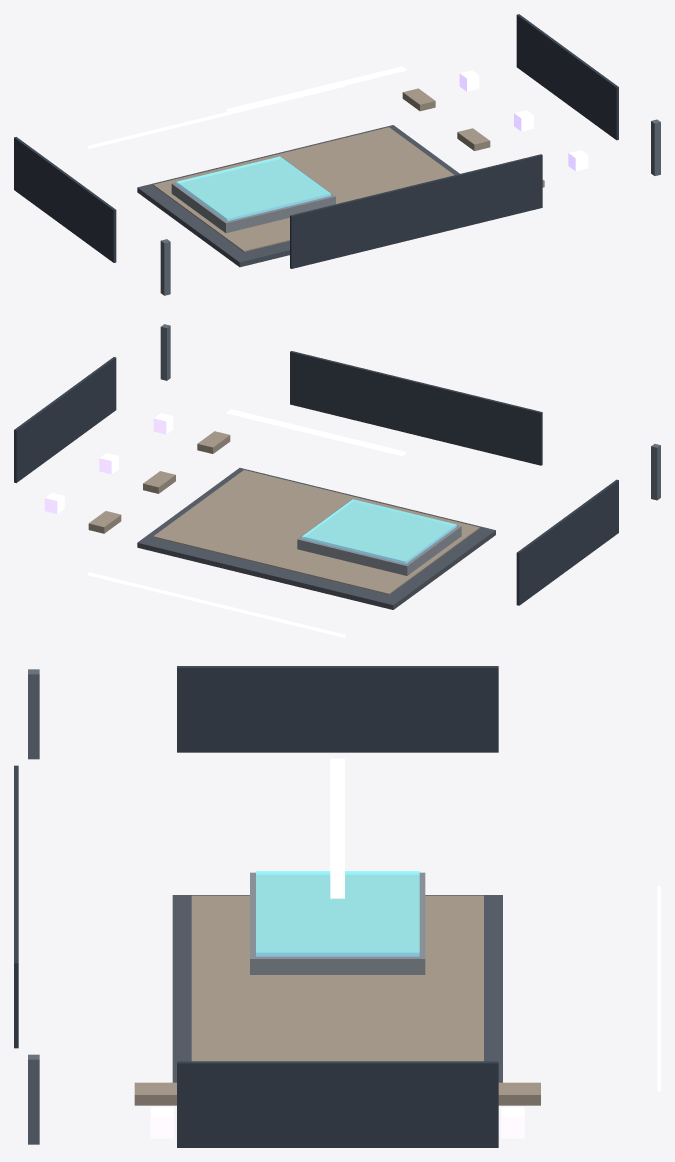
Rendered from floor-restoration.glb.
3 views of the same model, one above another, from view 1: azimuth 30°, elevation 25°; view 2: azimuth 150°, elevation 25°; view 3: azimuth 270°, elevation 25° (orthographic). The views are drawn at different scales.
Visible parts, largest first — view 1: WallBack_restoration, Deck, Pool, WallL_restoration, WallR_restoration, PoolWater, Slab_restoration, LightStrip_restoration, Reveal_restoration, Post_restoration_-1, Post_restoration_1, Lounger_1 (+1 smaller); view 2: Deck, WallBack_restoration, Pool, Slab_restoration, WallL_restoration, WallR_restoration, PoolWater, LightStrip_restoration, Reveal_restoration, Post_restoration_1, Post_restoration_-1, Lounger_0 (+2 smaller); view 3: Deck, WallL_restoration, WallR_restoration, Pool, PoolWater, Slab_restoration, LightStrip_restoration, WallBack_restoration, Post_restoration_-1, Post_restoration_1, Lounger_0, Lounger_2 (+3 smaller).
Boxes of the visible parts, bbox=[...] form: WallBack_restoration: bbox=[290, 154, 542, 268]; Deck: bbox=[153, 127, 454, 251]; Pool: bbox=[171, 157, 335, 233]; WallL_restoration: bbox=[14, 137, 116, 262]; WallR_restoration: bbox=[516, 14, 618, 140]; PoolWater: bbox=[176, 156, 330, 221]; Slab_restoration: bbox=[137, 125, 459, 267]; LightStrip_restoration: bbox=[226, 66, 406, 113]; Reveal_restoration: bbox=[88, 85, 345, 148]; Post_restoration_-1: bbox=[160, 239, 170, 295]; Post_restoration_1: bbox=[651, 119, 660, 175]; Lounger_1: bbox=[457, 128, 490, 150]; Deck: bbox=[153, 470, 479, 594]; WallBack_restoration: bbox=[290, 351, 542, 465]; Pool: bbox=[297, 499, 461, 575]; Slab_restoration: bbox=[137, 468, 495, 609]; WallL_restoration: bbox=[516, 479, 618, 605]; WallR_restoration: bbox=[14, 357, 116, 482]; PoolWater: bbox=[302, 499, 456, 563]; LightStrip_restoration: bbox=[226, 409, 406, 456]; Reveal_restoration: bbox=[88, 572, 345, 637]; Post_restoration_1: bbox=[160, 324, 170, 380]; Post_restoration_-1: bbox=[651, 444, 660, 500]; Lounger_0: bbox=[197, 431, 230, 453]; Deck: bbox=[191, 895, 483, 1061]; WallL_restoration: bbox=[177, 666, 498, 752]; WallR_restoration: bbox=[177, 1061, 498, 1147]; Pool: bbox=[250, 872, 425, 974]; PoolWater: bbox=[256, 871, 419, 956]; Slab_restoration: bbox=[172, 895, 502, 1082]; LightStrip_restoration: bbox=[330, 758, 344, 898]; WallBack_restoration: bbox=[14, 765, 18, 1048]; Post_restoration_-1: bbox=[28, 669, 39, 759]; Post_restoration_1: bbox=[28, 1054, 39, 1144]; Lounger_0: bbox=[134, 1082, 176, 1105]; Lounger_2: bbox=[498, 1082, 540, 1105].
Size of the model in its own units: 16.08 by 3.32 by 11.07.
